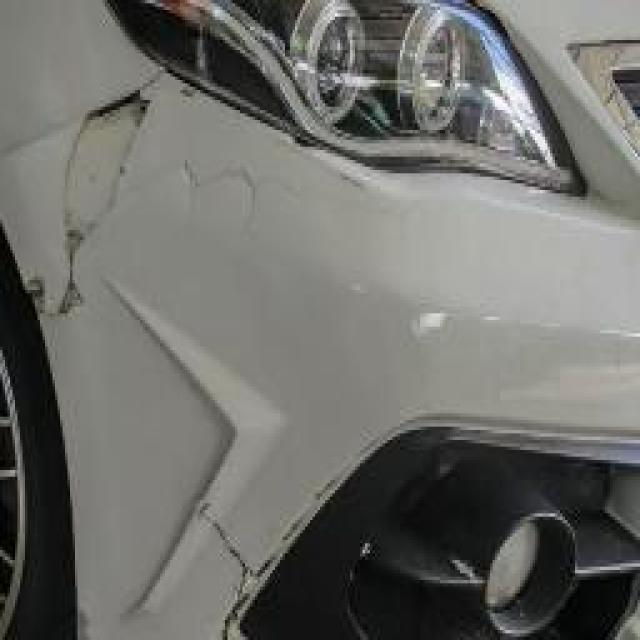Bumper: (30, 83, 340, 640)
